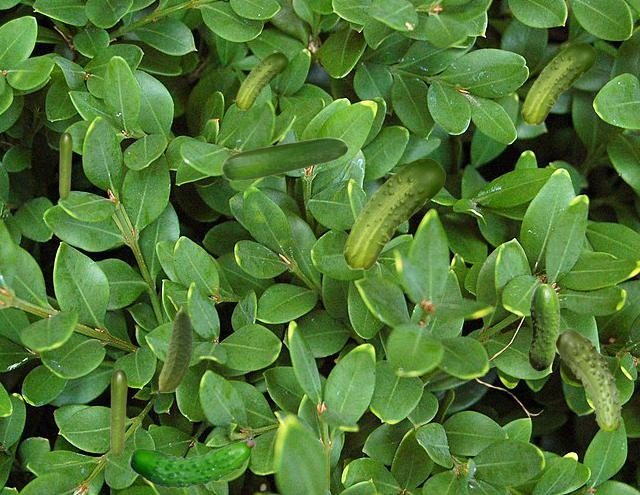cucumber: (343, 158, 444, 269), (128, 432, 254, 488), (555, 328, 621, 429), (521, 42, 595, 124), (221, 137, 347, 180), (153, 306, 192, 393), (235, 52, 287, 109), (528, 283, 559, 370), (110, 369, 126, 456), (59, 132, 71, 199)
